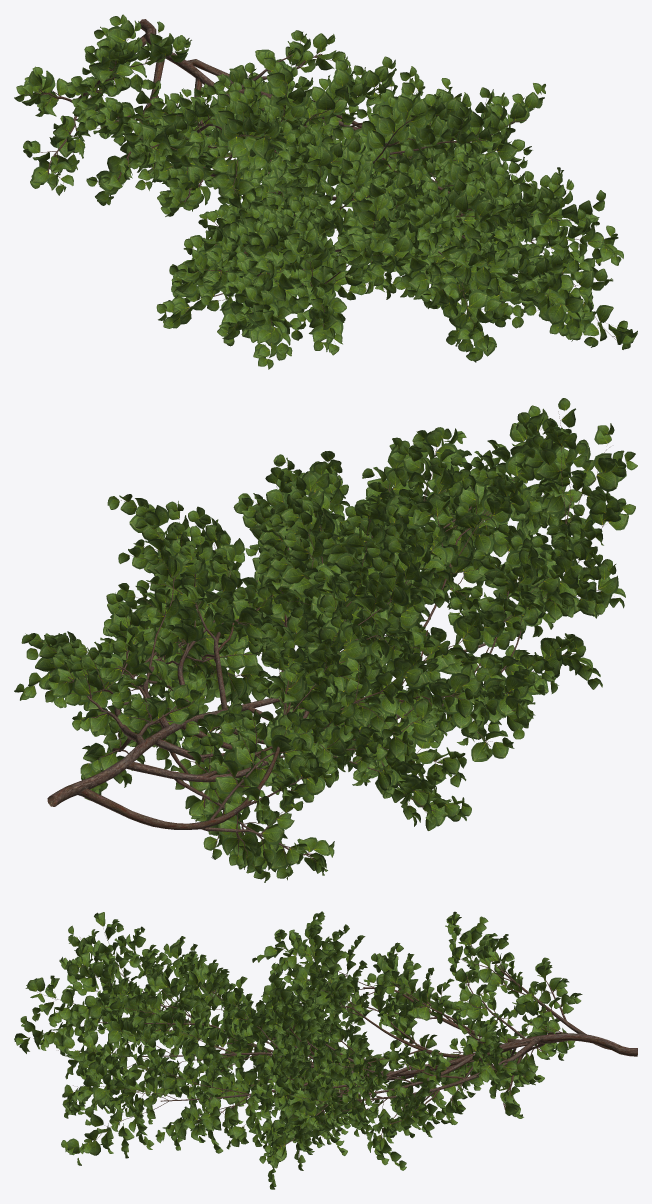
The model's file is new_shrub_4.obj.
3 views of the same model, one above another, from view 1: azimuth 30°, elevation 25°; view 2: azimuth 150°, elevation 25°; view 3: azimuth 270°, elevation 25° (orthographic). The views are drawn at different scales.
Visible parts, largest first — view 1: Leaf_Single_Ivy_Wall_Bush_Autumn_02_71, Trunk_Single_Ivy_Wall_Bush_Autumn_02_71; view 2: Leaf_Single_Ivy_Wall_Bush_Autumn_02_71, Trunk_Single_Ivy_Wall_Bush_Autumn_02_71; view 3: Leaf_Single_Ivy_Wall_Bush_Autumn_02_71, Trunk_Single_Ivy_Wall_Bush_Autumn_02_71.
Boxes of the visible parts, x1=… form: Leaf_Single_Ivy_Wall_Bush_Autumn_02_71: x1=14, y1=14, x2=637, y2=369; Trunk_Single_Ivy_Wall_Bush_Autumn_02_71: x1=25, y1=19, x2=615, y2=346; Leaf_Single_Ivy_Wall_Bush_Autumn_02_71: x1=14, y1=398, x2=637, y2=882; Trunk_Single_Ivy_Wall_Bush_Autumn_02_71: x1=33, y1=411, x2=609, y2=870; Leaf_Single_Ivy_Wall_Bush_Autumn_02_71: x1=14, y1=911, x2=582, y2=1189; Trunk_Single_Ivy_Wall_Bush_Autumn_02_71: x1=28, y1=924, x2=637, y2=1164.
Size of the model in its own units: 0.9229 by 0.6363 by 1.64.
2 materials, 2 textured.
